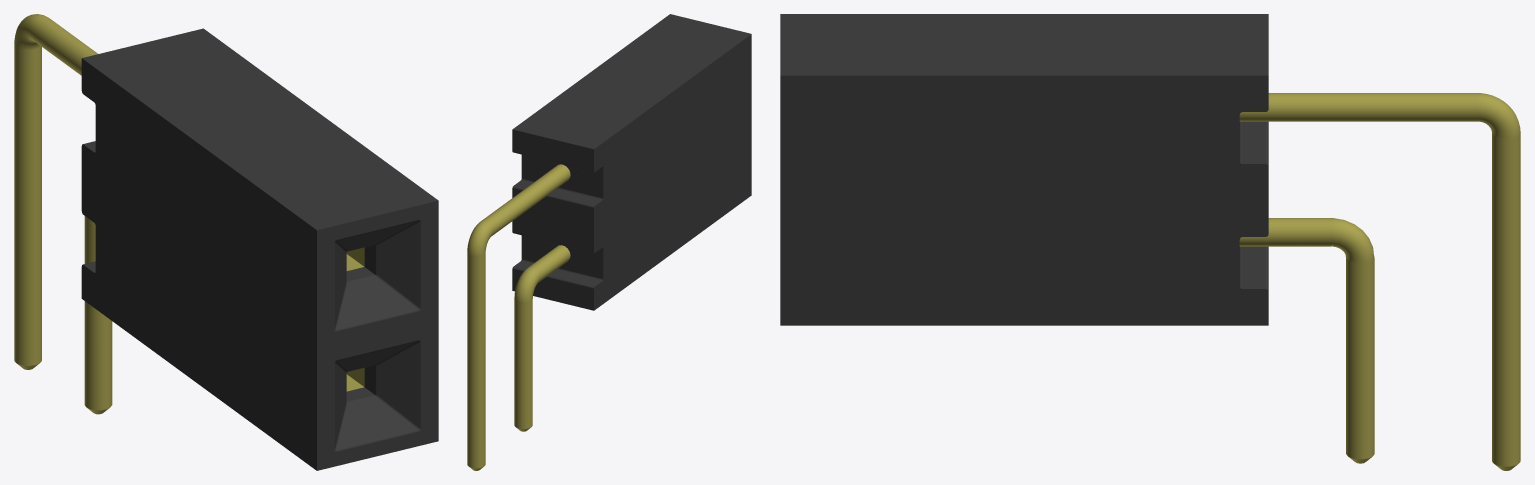
The model's file is Buchsenleiste_female_90_Gruppe.obj.
The picture shows the model from 3 angles, left to right: view 1: azimuth 30°, elevation 25°; view 2: azimuth 150°, elevation 25°; view 3: azimuth 270°, elevation 25°; orthographic projection. The views are drawn at different scales.
Visible parts, largest first — view 1: Volumenkörper1:1, Volumenkörper1; view 2: Volumenkörper1:1, Volumenkörper1; view 3: Volumenkörper1:1, Volumenkörper1.
Boxes of the visible parts, <box> form: Volumenkörper1:1: <box>14,14,438,369</box>; Volumenkörper1: <box>81,179,438,470</box>; Volumenkörper1:1: <box>467,14,751,470</box>; Volumenkörper1: <box>512,115,751,431</box>; Volumenkörper1:1: <box>780,14,1520,470</box>; Volumenkörper1: <box>780,200,1374,463</box>.
Bounding box in the file's own units: 2.54 × 8.14 × 12.89.
